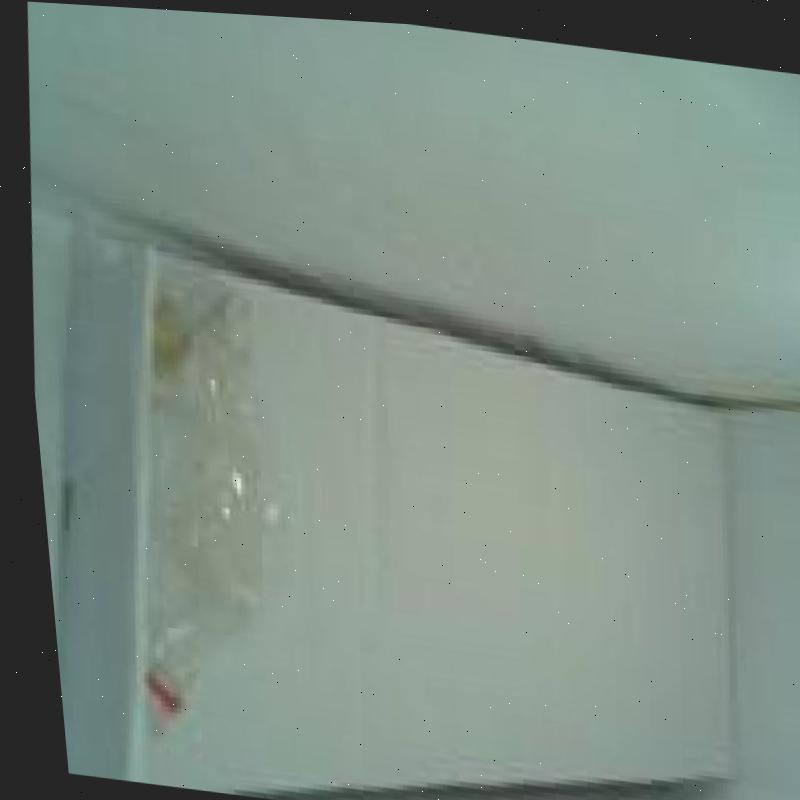botella: (91, 262, 304, 739)
